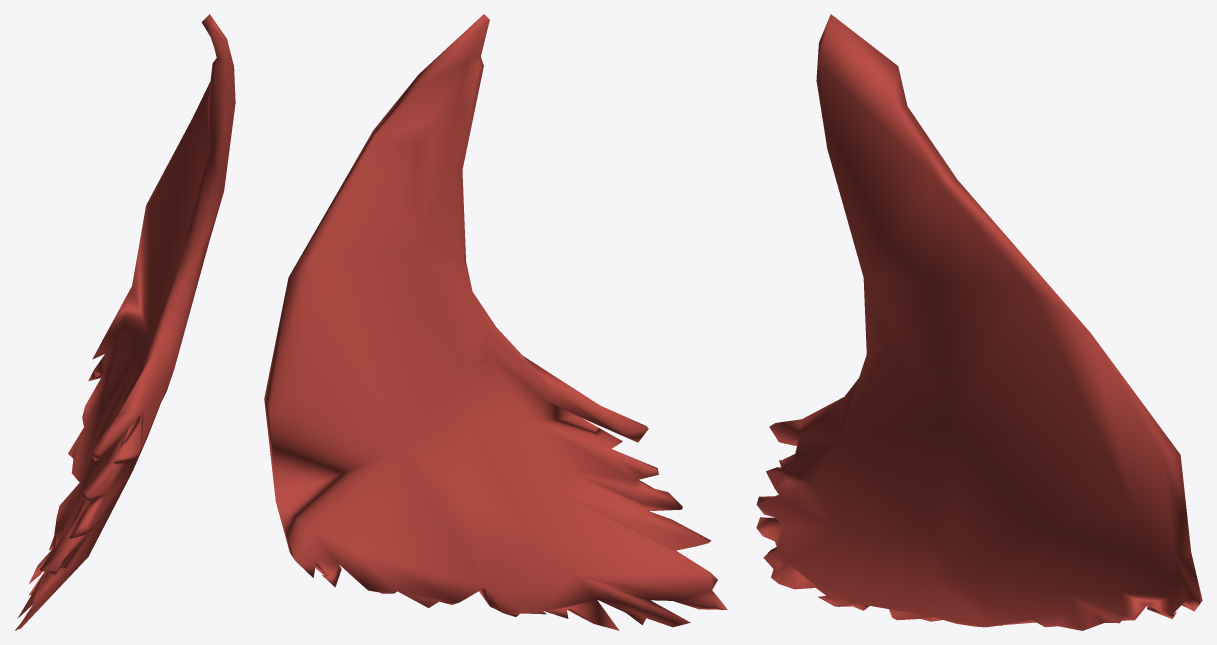
The model's file is musculos-depressor-anguli-oris-l.glb.
The picture shows the model from 3 angles, left to right: view 1: azimuth 30°, elevation 25°; view 2: azimuth 150°, elevation 25°; view 3: azimuth 270°, elevation 25°; orthographic projection. The views are drawn at different scales.
Parts seen in each view (by area): view 1: Depressor anguli oris.l; view 2: Depressor anguli oris.l; view 3: Depressor anguli oris.l.
Part boxes in pixels (x1=…): Depressor anguli oris.l: x1=15, y1=14, x2=235, y2=630; Depressor anguli oris.l: x1=264, y1=14, x2=727, y2=630; Depressor anguli oris.l: x1=756, y1=14, x2=1202, y2=630.
Size of the model in its own units: 0.0241 by 0.0417 by 0.0238.
